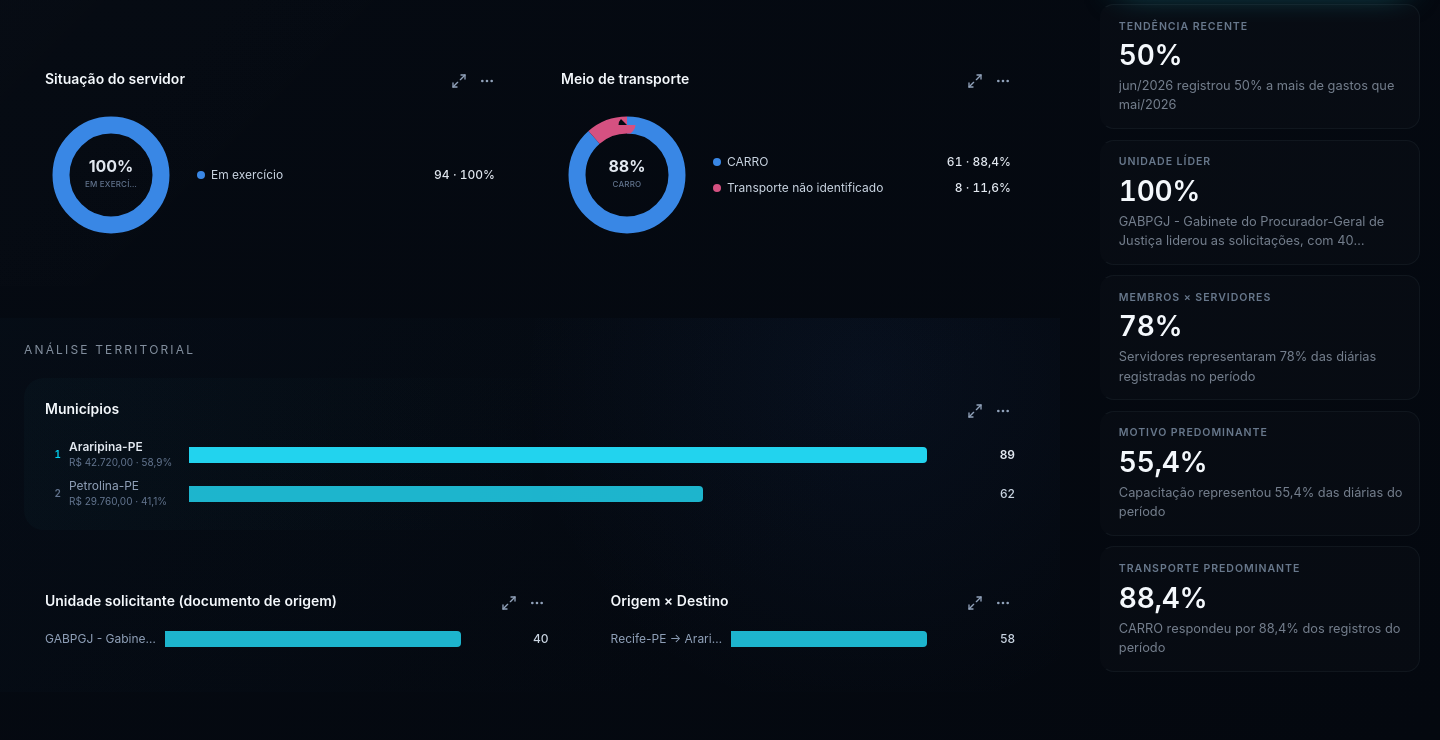
Test: ModoExecutivo › painel lateral contextual (Sprint 21.4) › mostra 'Principais motivos' e 'Principais pessoas' filtrados pelo ponto clicado (município), com filtro composto sobre o recorte vigente
(page scrolled)
Expected: the heading "Municípios" is shown, [45,399,119,419]
What coordinates should you click on to do the following:
click the button with aria-label "Filtrar por Araripina-PE"
I would click on:
 (530, 454)
Its box is [45,439,1015,470].
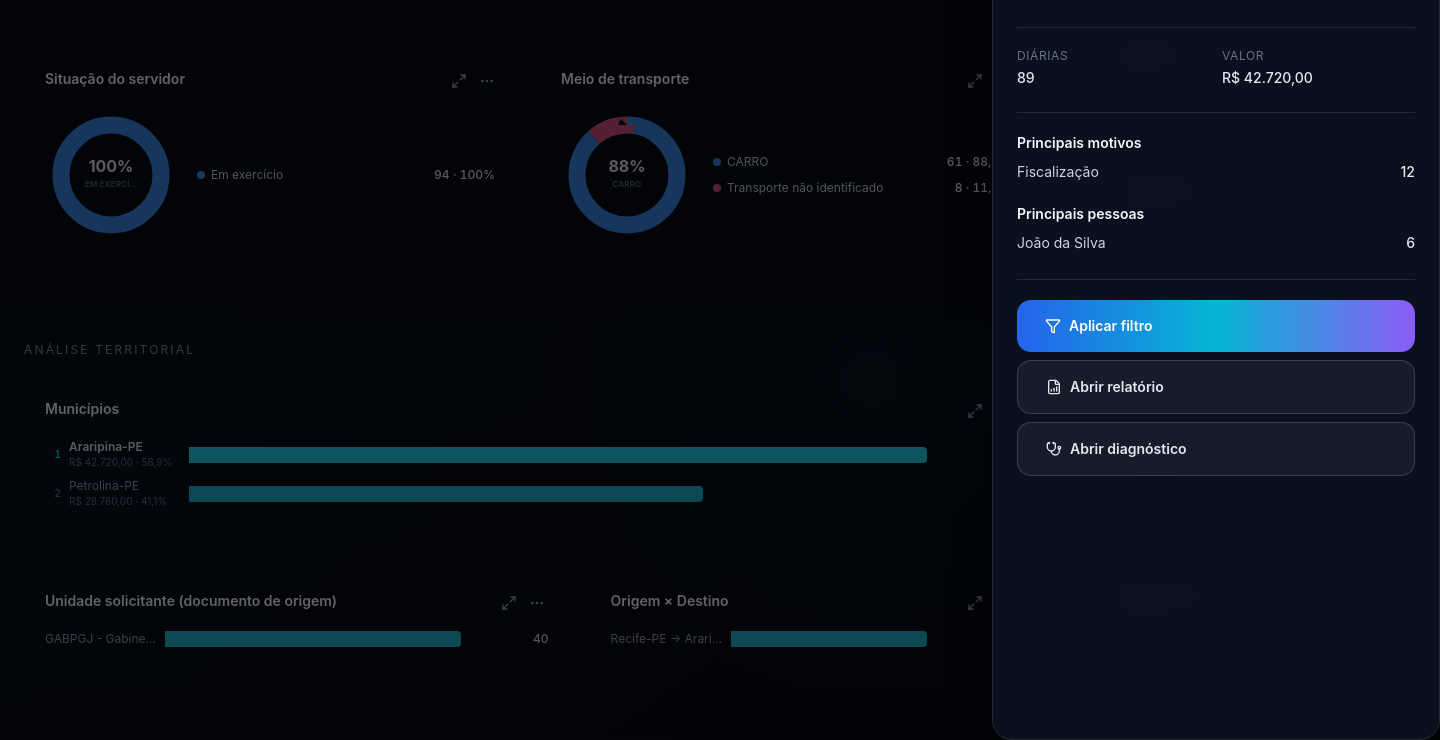
Result: the heading "Principais motivos" is shown at [1017,134,1141,151]
Result: the heading "Principais pessoas" is shown at [1017,205,1144,222]
Result: the text "Fiscalização" is shown at [1017,161,1099,184]
